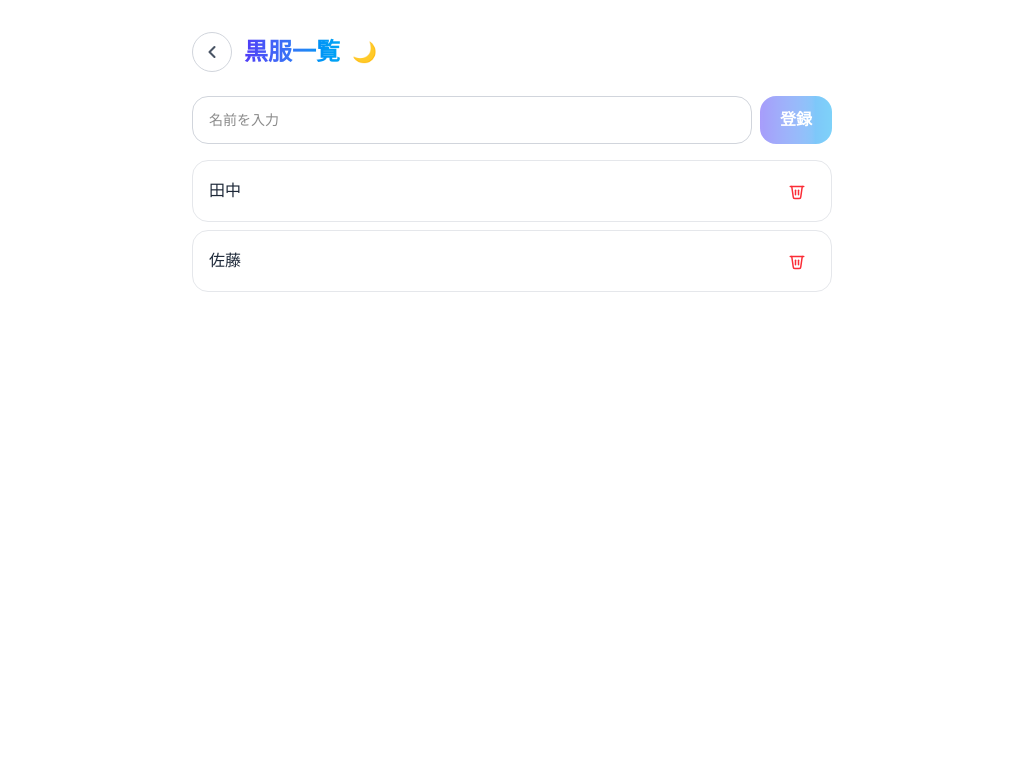
黒服一覧ページ › 削除ボタンを押して削除モーダルで確定すると削除される
This screenshot has width=1024, height=768.
Expected: the text "田中" is shown, [209,179,241,203]
Expected: the text "佐藤" is shown, [209,249,241,273]
Click the button named "田中を削除" at x=797, y=191, box [779,173,815,209]
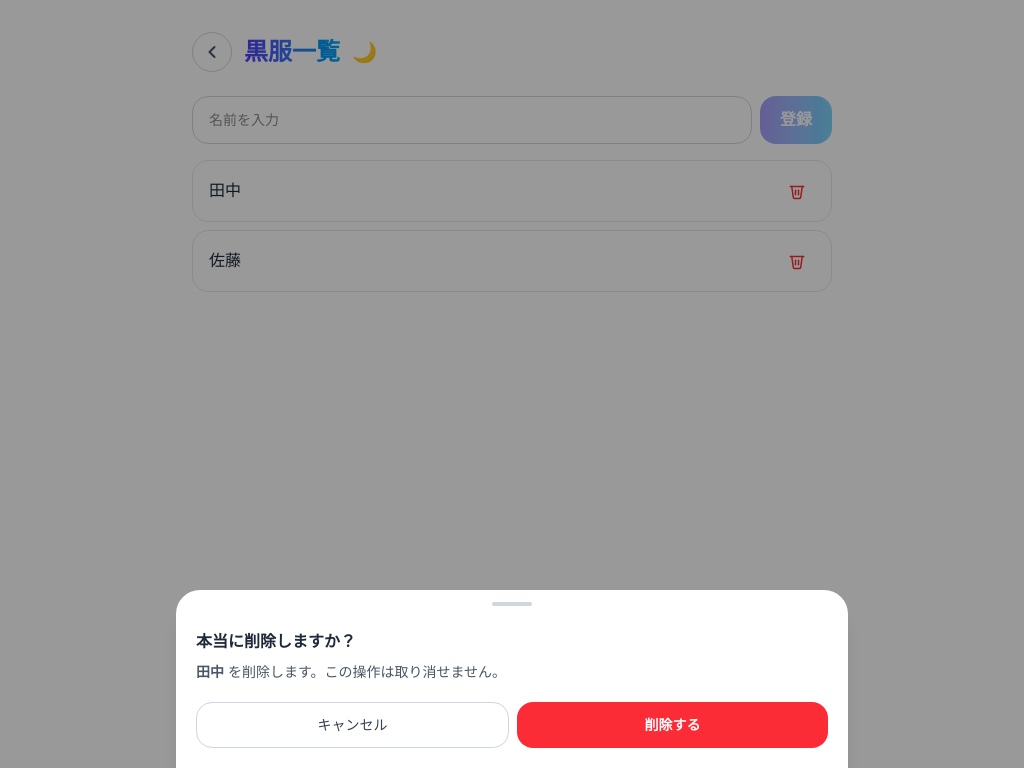
Click the button "削除する" at x=672, y=725, box [517,702,828,748]
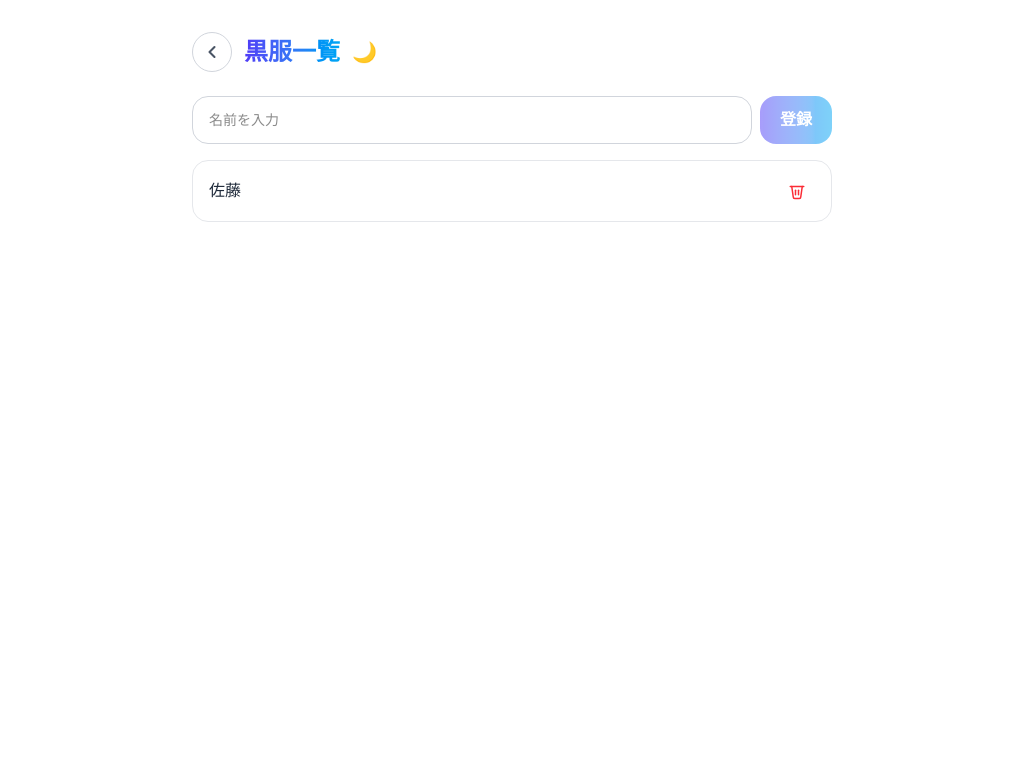
Expected: the text "佐藤" is shown, [209,179,241,203]
Expected: the text "田中" is gone
